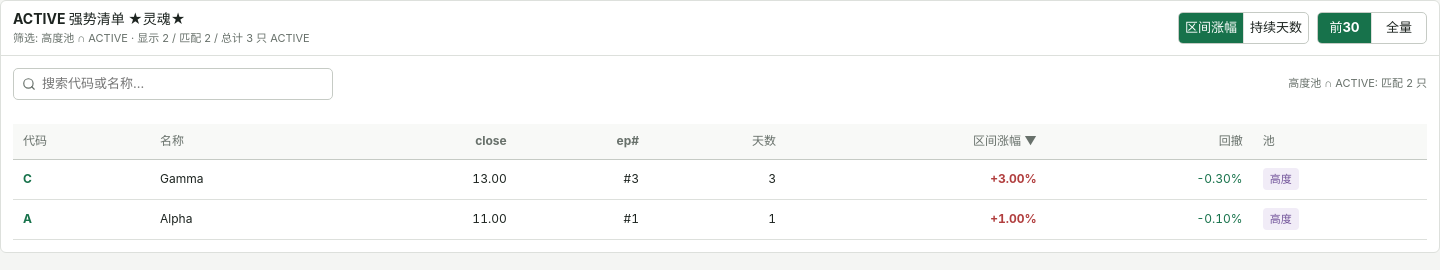
ActiveListPanel › applies pool intersection and code/name search with Chinese pool labels
expect the text "筛选: 高度池 ∩ ACTIVE · 显示 2 / 匹配 2 / 总计 3 只 ACTIVE" is shown: met, box x1=13 y1=30 x2=310 y2=46
Type "Alpha" into the field with placeholder "搜索代码或名称…". click: (173, 84)
box: x1=13 y1=68 x2=333 y2=100
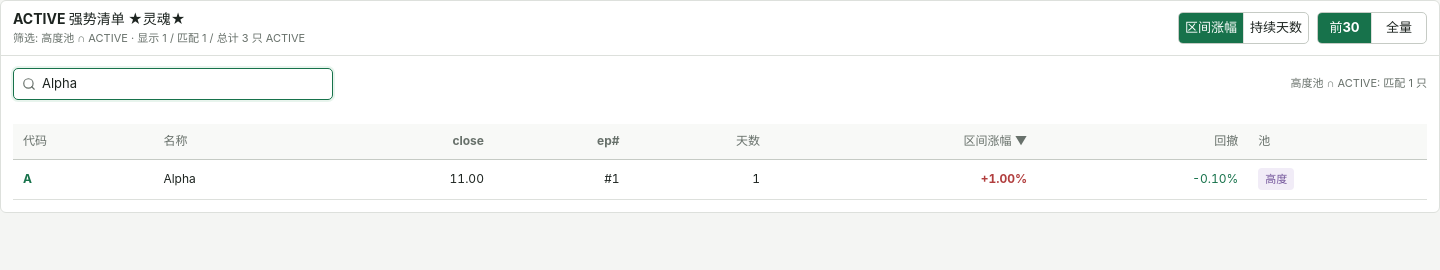
expect the text "筛选: 高度池 ∩ ACTIVE · 显示 1 / 匹配 1 / 总计 3 只 ACTIVE" is shown: met, box x1=13 y1=30 x2=305 y2=46
